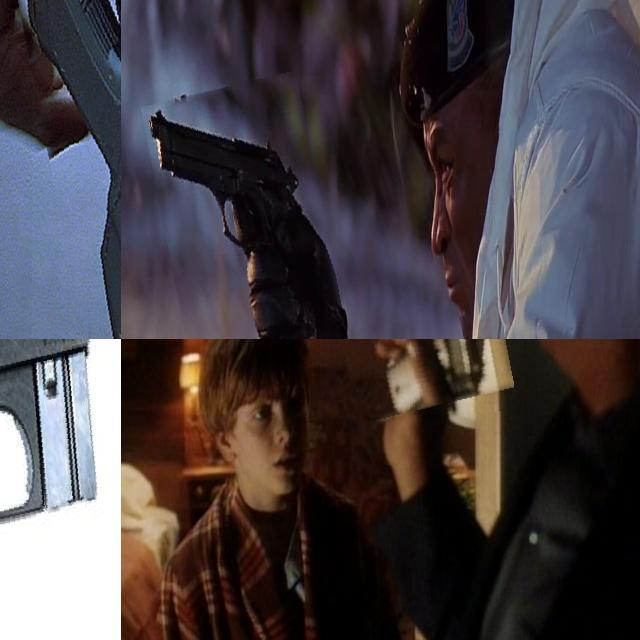gun-knife-thesis - v11 Yolov5 augmented: (154, 76, 337, 339), (0, 339, 121, 640), (32, 0, 121, 339), (320, 339, 502, 477)
